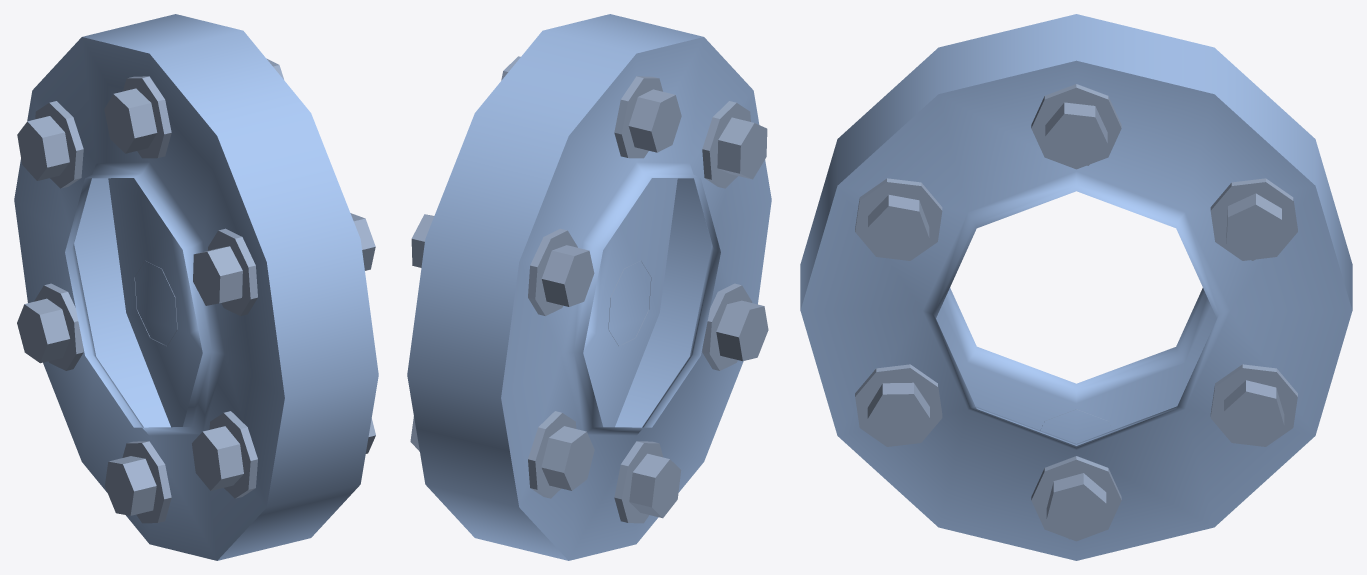
File: PipeSmall_Connector_03_Full.fbx
3 renders of one model, left to right at view 1: azimuth 30°, elevation 25°; view 2: azimuth 150°, elevation 25°; view 3: azimuth 270°, elevation 25°, orthographic.
Visible parts, largest first — view 1: PipeSmall_Connector_03_Full.001; view 2: PipeSmall_Connector_03_Full.001; view 3: PipeSmall_Connector_03_Full.001.
Part boxes in pixels (x1,y1,x2,y2): PipeSmall_Connector_03_Full.001: (14, 14, 378, 560); PipeSmall_Connector_03_Full.001: (407, 14, 771, 560); PipeSmall_Connector_03_Full.001: (800, 14, 1352, 560).
Size of the model in its own units: 0.0643 by 0.1955 by 0.1955.
